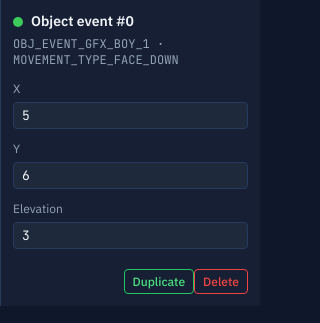
EventInspector Duplicate (Plan 10b D6) › is disabled while a Delete is in flight
This screenshot has width=320, height=323.
What coordinates should you click on to do the following:
click the button "Delete"
I would click on:
 (221, 281)
Its box is x1=194 y1=269 x2=248 y2=294.
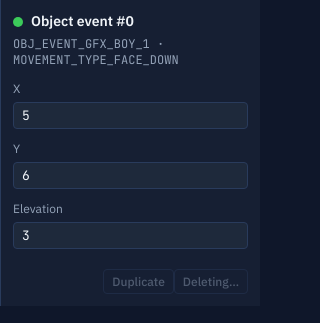
Expected: the button "Duplicate" is disabled, x1=103 y1=269 x2=174 y2=294
